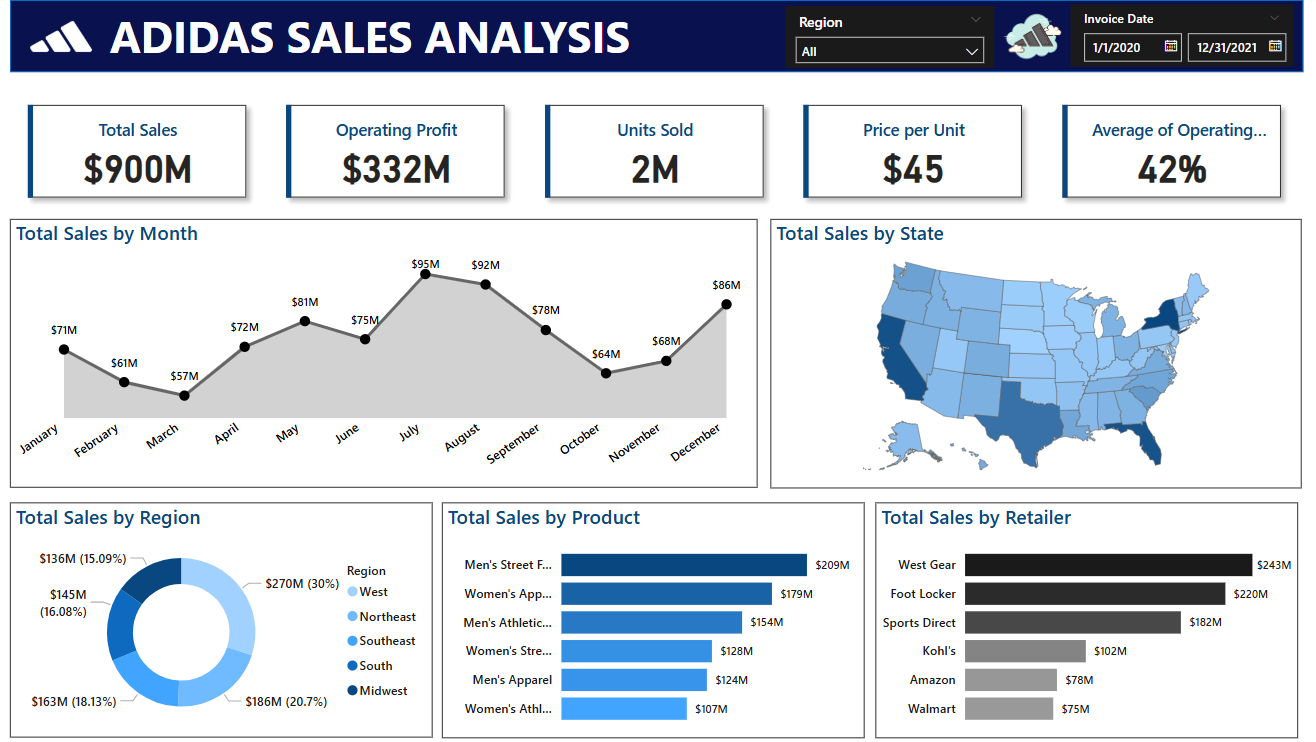

What the dashboard file says about the page in this screenshot:
{"tool":"powerbi","page":{"name":"Page 1","canvas":[1280,720],"ordinal":0},"visuals":[{"type":"shape","box":[11.3,0,1255,70],"z":0},{"type":"textbox","box":[81,0,558.6,69.6],"z":1000},{"type":"cardVisual","fields":{"Data":["Sum(Data Sales Adidas.Total Sales)","Sum(Data Sales Adidas.Operating Profit)","Sum(Data Sales Adidas.Units Sold)","Avg(Data Sales Adidas.Price per Unit)","Avg(Data Sales Adidas.Operating Margin)"]},"box":[11.3,84.2,1254.9,124.7],"z":2000},{"type":"areaChart","title":"Total Sales by Month","fields":{"Category":["Data Sales Adidas.Invoice Date.Variation.Date Hierarchy.Month"],"Y":["Sum(Data Sales Adidas.Total Sales)"]},"box":[11.6,212.6,725.3,260.5],"z":3000},{"type":"shapeMap","title":"Total Sales by State","fields":{"Category":["Data Sales Adidas.State"],"Value":["Sum(Data Sales Adidas.Total Sales)"]},"box":[750,212.2,515.6,261.1],"z":4000},{"type":"donutChart","title":"Total Sales by Region","fields":{"Category":["Data Sales Adidas.Region"],"Y":["Sum(Data Sales Adidas.Total Sales)"]},"box":[11.1,487.8,410,227.8],"z":5000},{"type":"barChart","title":"Total Sales by Product","fields":{"Category":["Data Sales Adidas.Product"],"Y":["Sum(Data Sales Adidas.Total Sales)"]},"box":[431.1,487.2,410,228.9],"z":6000},{"type":"barChart","title":"Total Sales by Retailer","fields":{"Y":["Sum(Data Sales Adidas.Total Sales)"],"Category":["Data Sales Adidas.Retailer"]},"box":[851.1,487.2,410,228.9],"z":7000},{"type":"slicer","fields":{"Values":["Data Sales Adidas.Region"]},"box":[764.3,5.7,202.9,60],"z":8000},{"type":"slicer","fields":{"Values":["Data Sales Adidas.Invoice Date"]},"box":[1040,5,215.7,60],"z":9000},{"type":"image","box":[21.6,0,78.4,70],"z":10000},{"type":"image","box":[967.1,0,72.9,70],"z":11000}]}

Visuals, with their boxes in screenshot pixels (x1, y1, x2, y2), scaled from the page's 1280x720 canvas onto the 1316x742 screenshot:
shape: bbox=(12, 0, 1302, 72)
textbox: bbox=(83, 0, 658, 72)
cardVisual - Sum(Data Sales Adidas.Total Sales) x Sum(Data Sales Adidas.Operating Profit): bbox=(12, 87, 1302, 215)
"Total Sales by Month" areaChart: bbox=(12, 219, 758, 488)
"Total Sales by State" shapeMap: bbox=(771, 219, 1301, 488)
"Total Sales by Region" donutChart: bbox=(11, 503, 433, 737)
"Total Sales by Product" barChart: bbox=(443, 502, 865, 738)
"Total Sales by Retailer" barChart: bbox=(875, 502, 1297, 738)
slicer - Data Sales Adidas.Region: bbox=(786, 6, 994, 68)
slicer - Data Sales Adidas.Invoice Date: bbox=(1069, 5, 1291, 67)
image: bbox=(22, 0, 103, 72)
image: bbox=(994, 0, 1069, 72)
